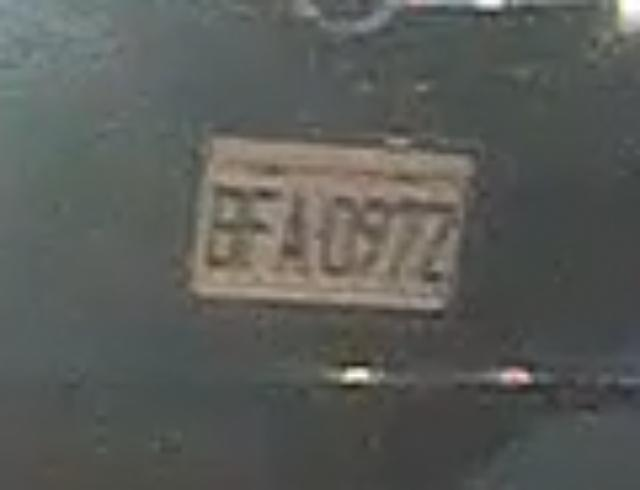plate: (187, 133, 475, 309)
